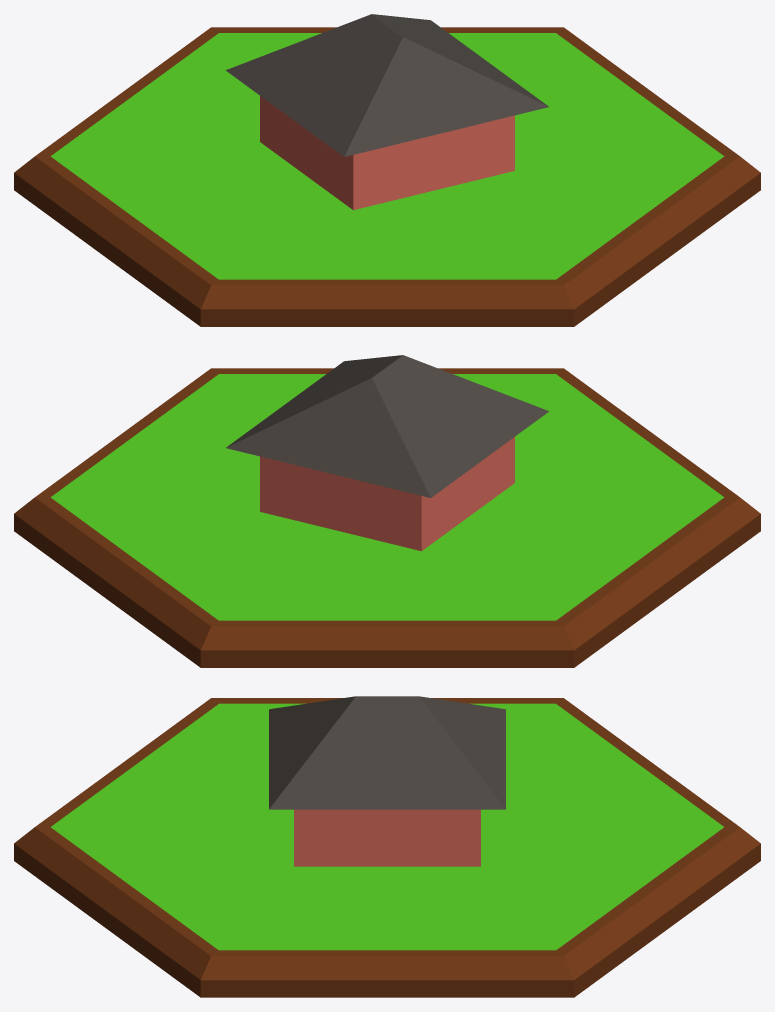
The model's file is building_hex.fbx.
3 renders of one model, top to bottom at view 1: azimuth 30°, elevation 25°; view 2: azimuth 150°, elevation 25°; view 3: azimuth 270°, elevation 25°, orthographic.
Parts seen in each view (by area): view 1: Base, Cube; view 2: Base, Cube; view 3: Base, Cube.
Part boxes in pixels (x1,y1,x2,y2): Base: (14, 27, 760, 326); Cube: (226, 14, 548, 210); Base: (14, 368, 760, 667); Cube: (226, 355, 548, 551); Base: (14, 698, 760, 997); Cube: (269, 696, 505, 866).
Size of the model in its own units: 173 by 48.59 by 200.
